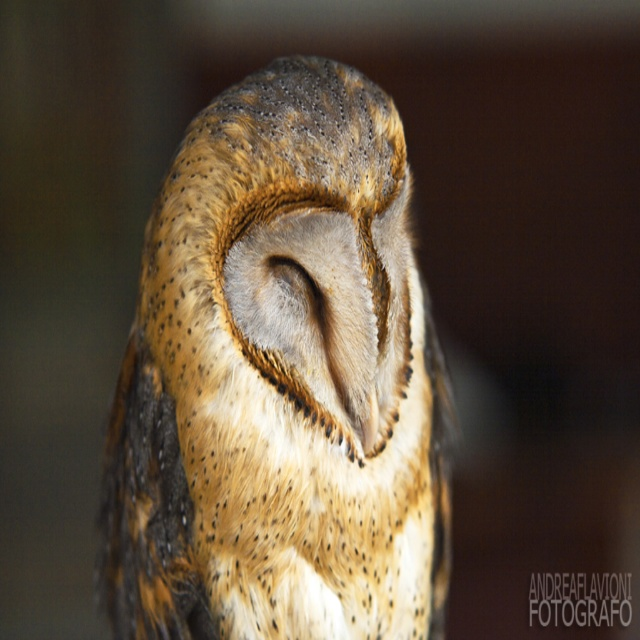Owl: (91, 58, 461, 639)
